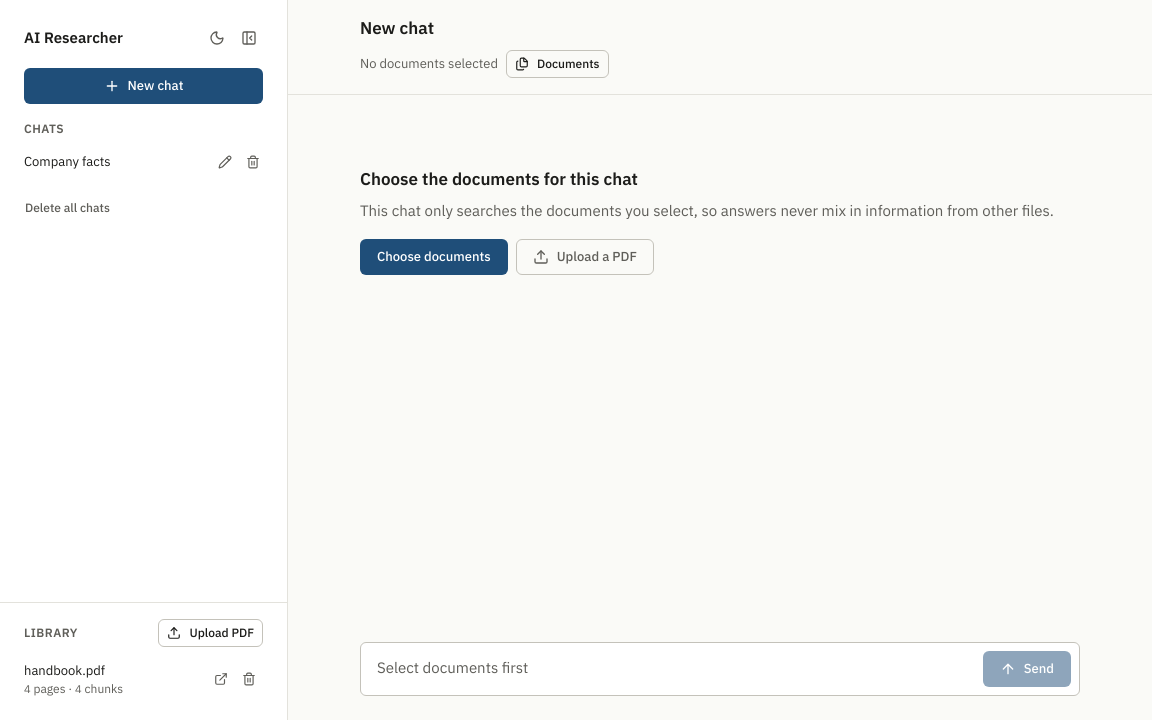
Test: DocumentsPanel › warns how many chats use a document before deleting it
Click the button "Company facts": point(112, 162) 16,146 -> 207,178
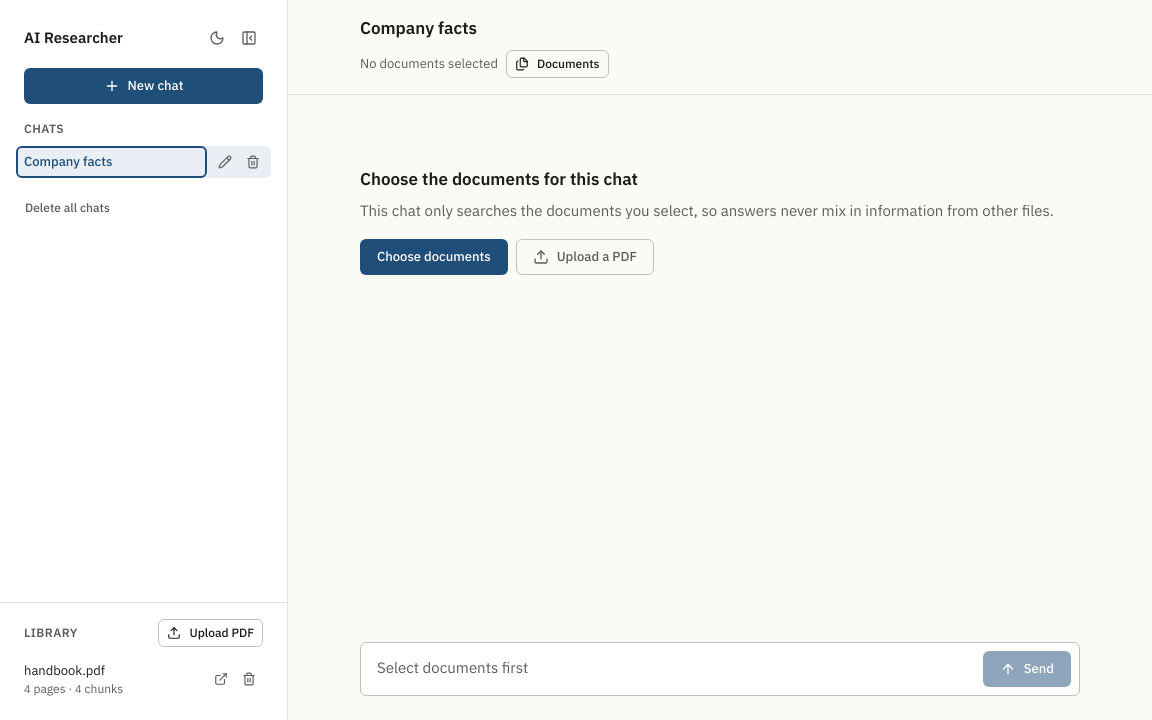
Check: the heading "Company facts" is shown, box 360,16 -> 477,42
Click the button named "Delete handbook.pdf": point(249, 679) 235,665 -> 263,693
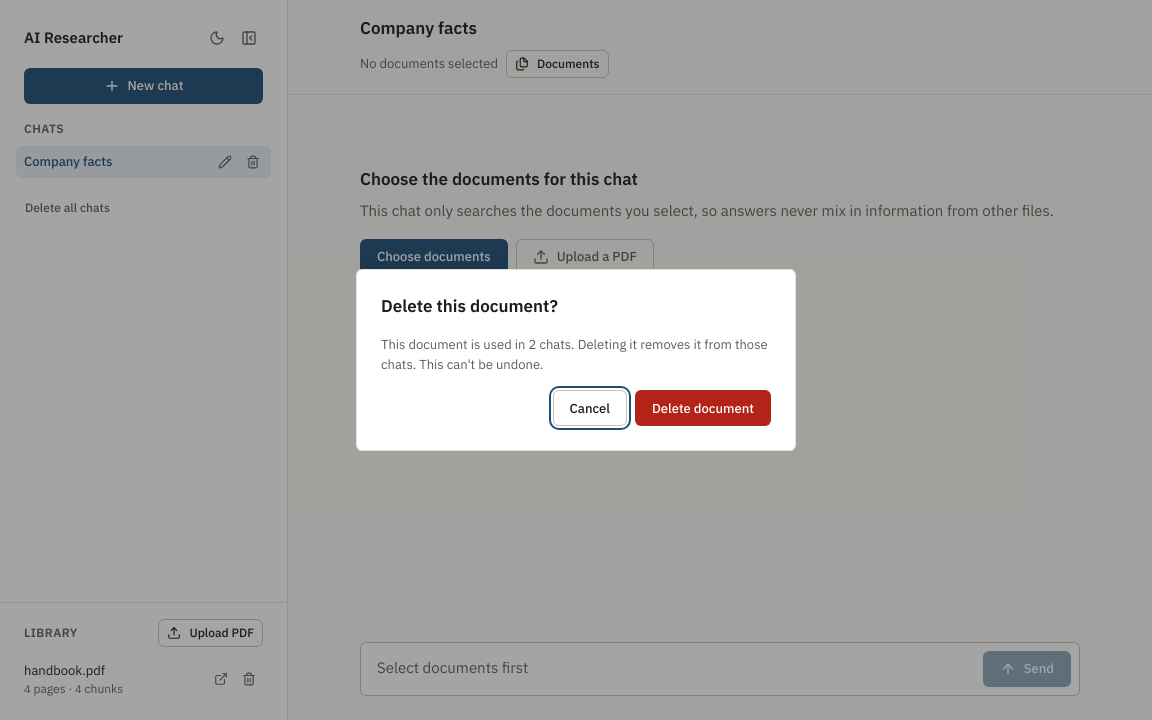
Check: the dialog shows "This document is used in 2 chats. Deleting it removes it from those chats. This can't be undone.", box 381,336 -> 768,373
Click the button "Delete document": point(703, 408) 635,390 -> 771,426
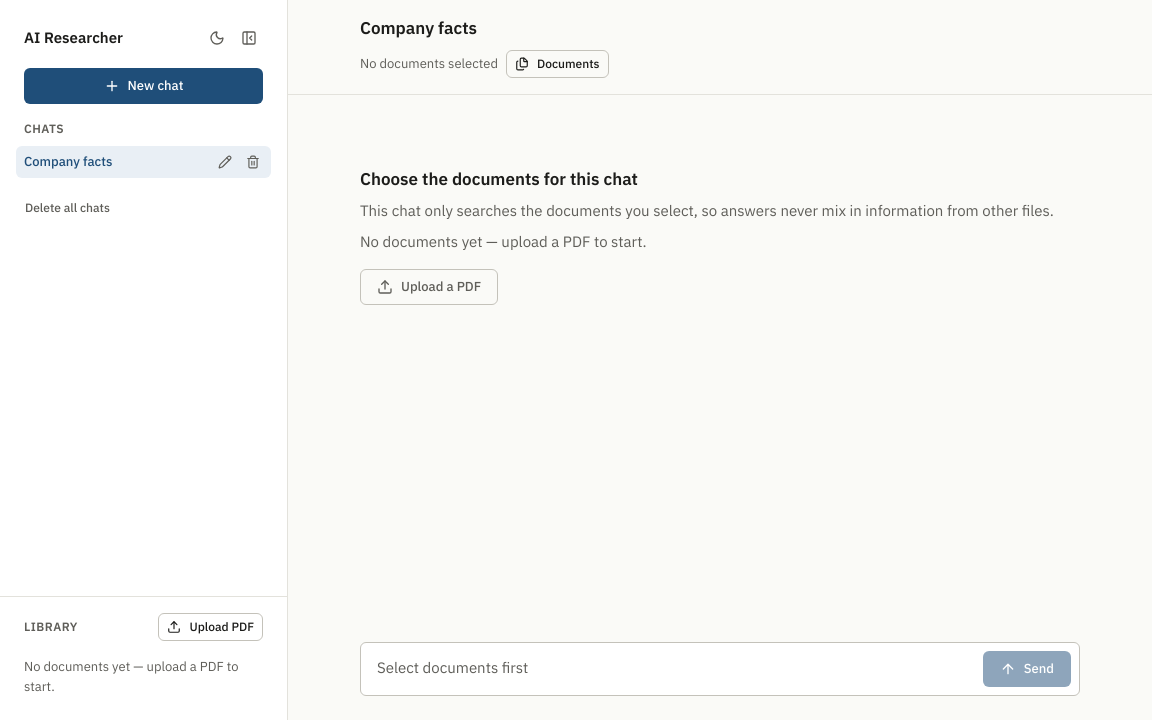
Check: the text "No documents yet — upload a PDF to start." below "Library" is shown, box 24,658 -> 238,694
